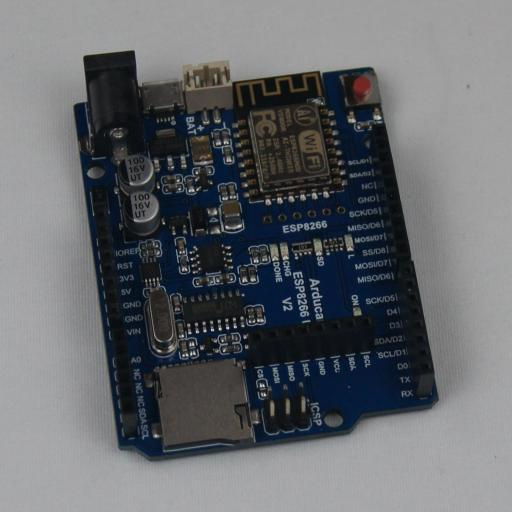Arduino Uno Camera Shield: (73, 50, 439, 462)
